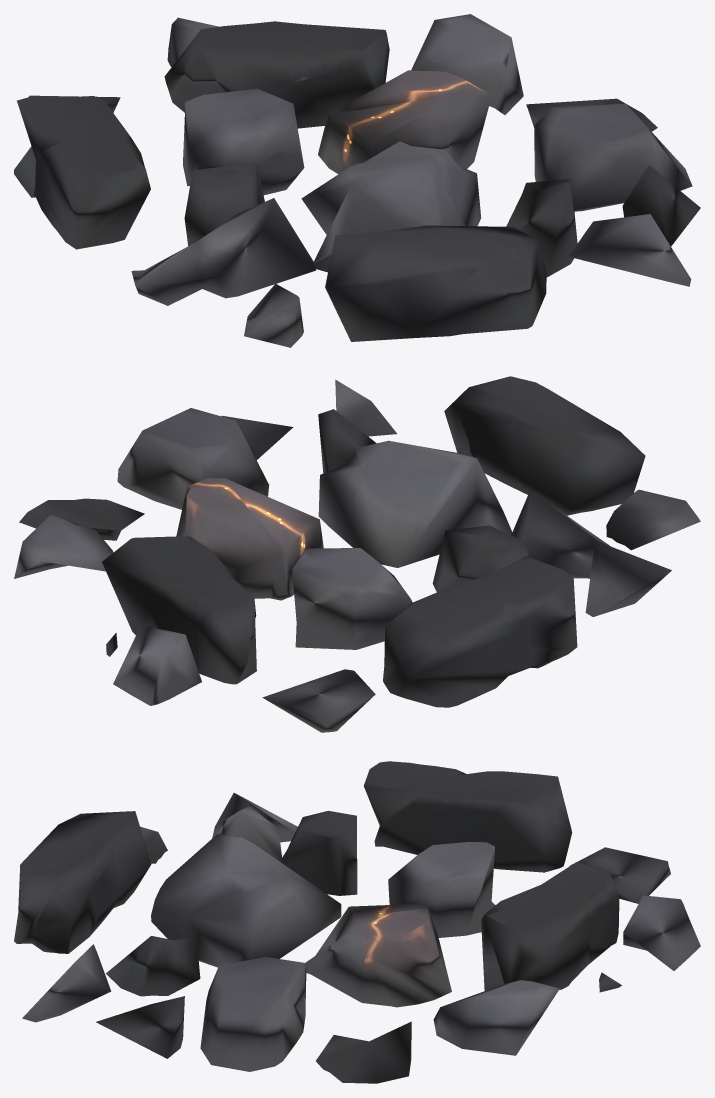
The model's file is fg_rubble_small-Biul1lJD.glb.
3 renders of one model, top to bottom at view 1: azimuth 30°, elevation 25°; view 2: azimuth 150°, elevation 25°; view 3: azimuth 270°, elevation 25°, orthographic. The views are drawn at different scales.
Parts seen in each view (by area): view 1: tripo_node_2f079b1a-8a9e-4bca-b823-f81d537ad5b1; view 2: tripo_node_2f079b1a-8a9e-4bca-b823-f81d537ad5b1; view 3: tripo_node_2f079b1a-8a9e-4bca-b823-f81d537ad5b1.
Part boxes in pixels (left/top/right/bottom): tripo_node_2f079b1a-8a9e-4bca-b823-f81d537ad5b1: left=14, top=14, right=700, bottom=347; tripo_node_2f079b1a-8a9e-4bca-b823-f81d537ad5b1: left=14, top=376, right=700, bottom=732; tripo_node_2f079b1a-8a9e-4bca-b823-f81d537ad5b1: left=14, top=761, right=700, bottom=1083.
Bounding box in the file's own units: 1.83 × 0.2572 × 2.
1 material, 1 textured.
